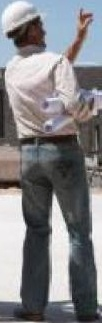boots: (0, 310, 29, 323), (14, 308, 44, 320)
hard-hat: (1, 0, 41, 36)
